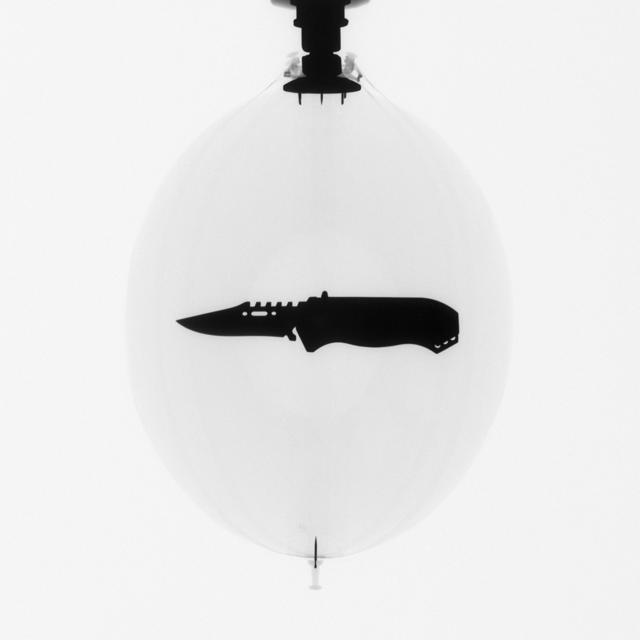knife: (169, 293, 478, 360)
